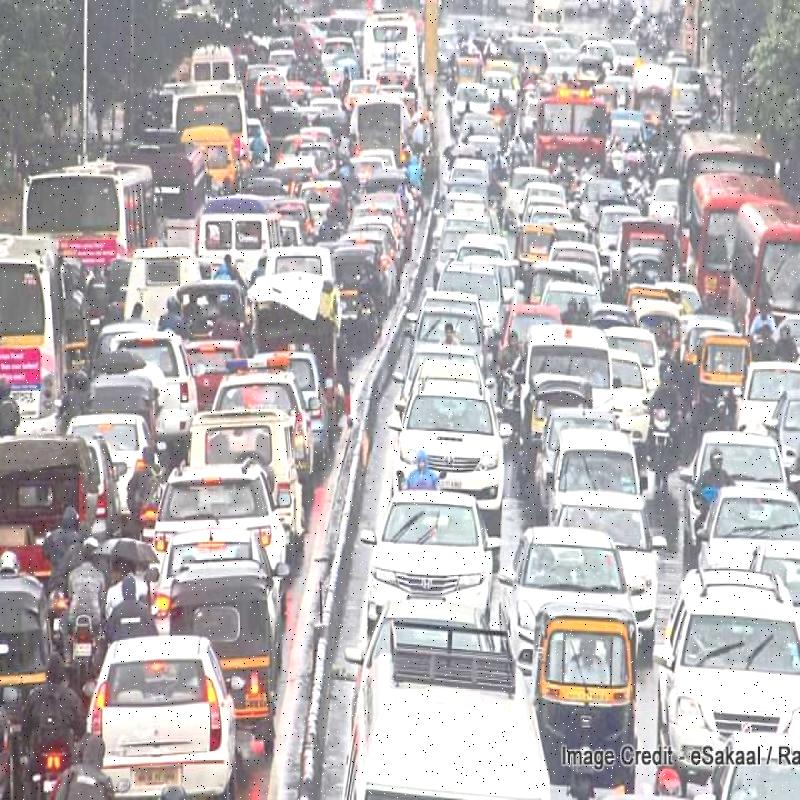car: (355, 612, 563, 800), (665, 583, 800, 764), (365, 486, 496, 659), (515, 523, 619, 668), (523, 315, 630, 447), (391, 396, 504, 520), (539, 424, 646, 531), (398, 290, 494, 403)
